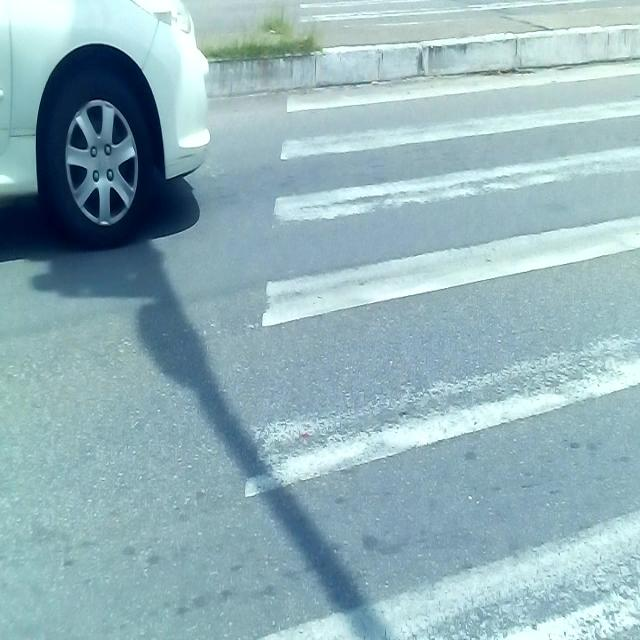crosswalk: (219, 57, 640, 640), (298, 0, 640, 47)
